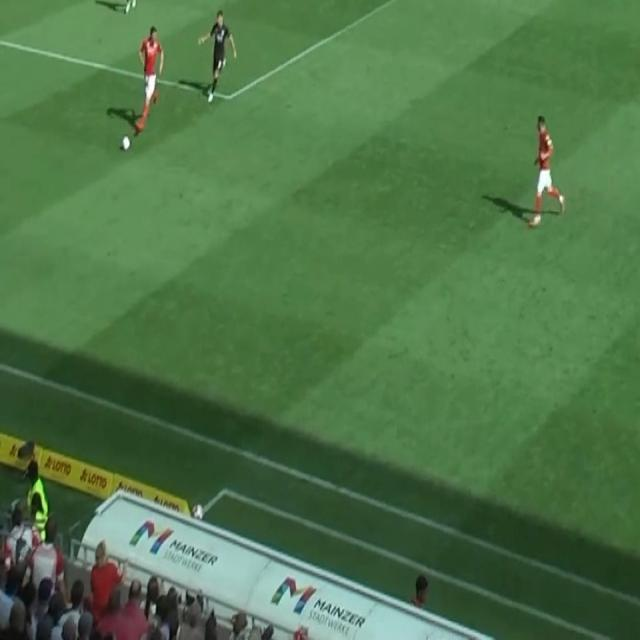ball: (121, 134, 130, 152)
